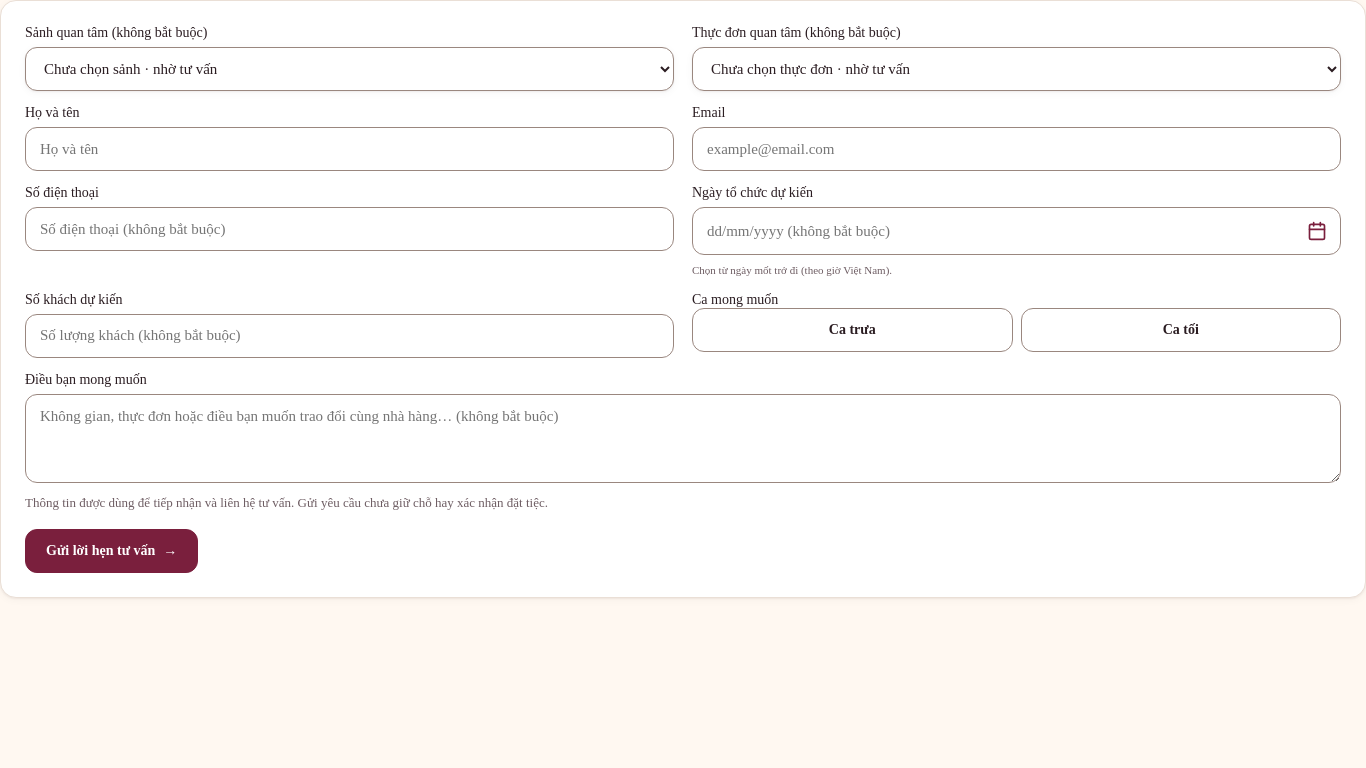
Scenario: public consultation submission › keeps a failed draft and reuses the intent id on retry
This screenshot has width=1366, height=768.
Step 1. Type "Lan & Minh" into the field labelled "Họ và tên" → [350, 149], box [25,127,674,171]
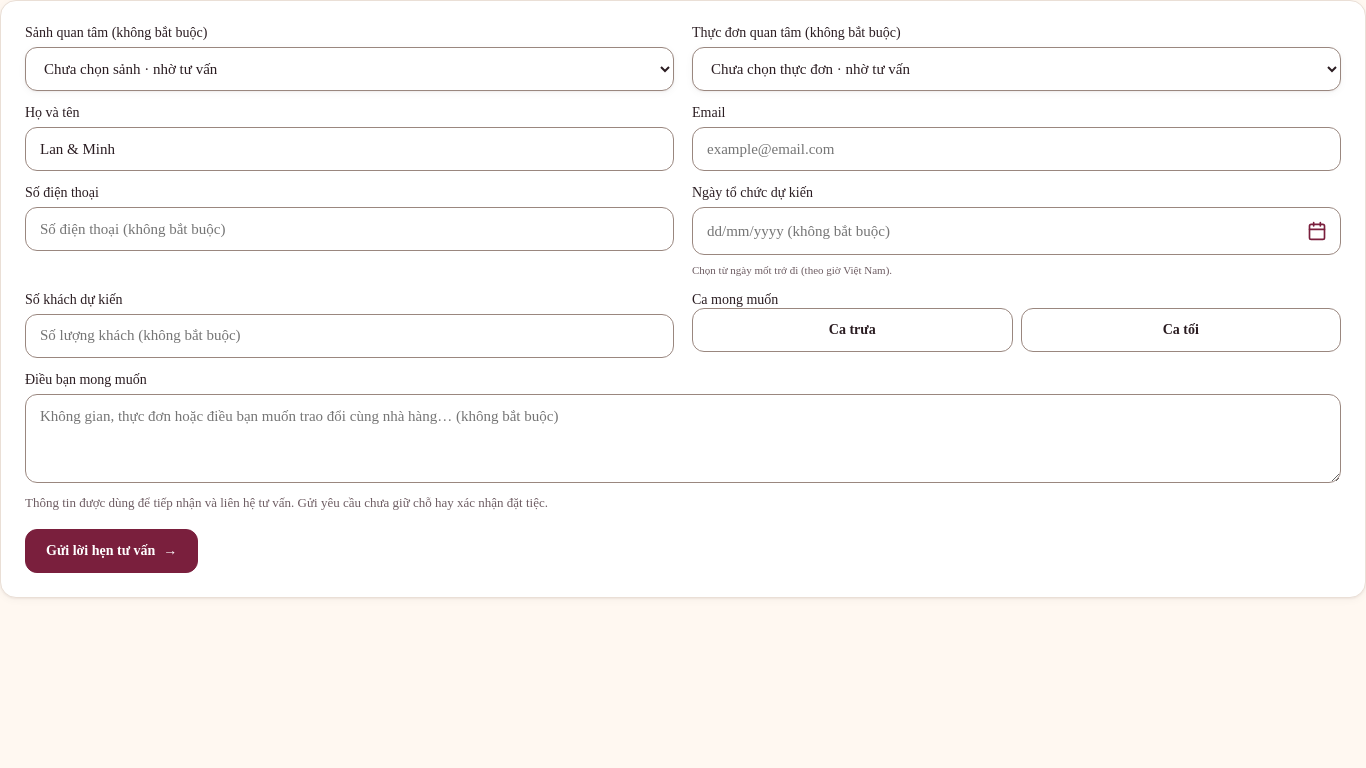
Step 2. Type "lan@example.com" into the field labelled "Email" → [1016, 149], box [692,127,1341,171]
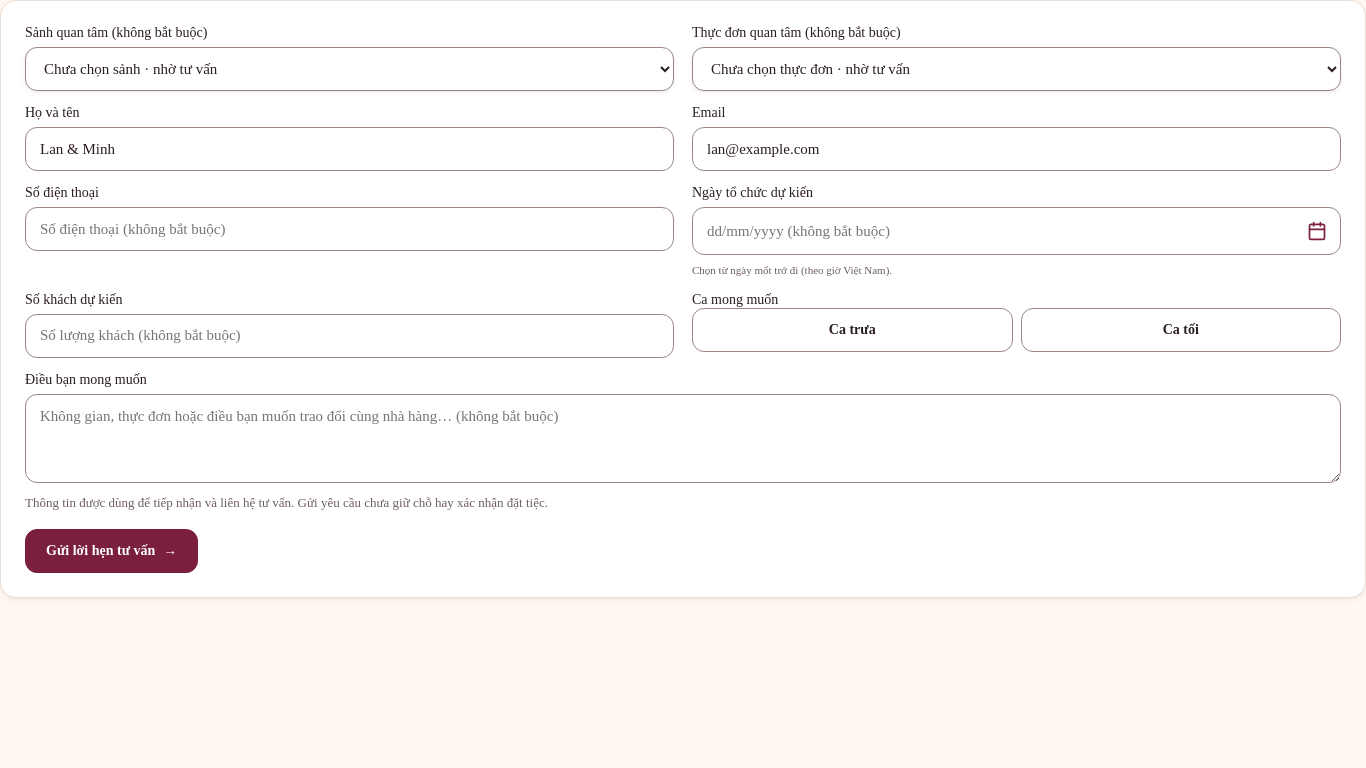
Step 3. Click the button "Gửi lời hẹn tư vấn →" → [112, 551], box [25,529,198,573]
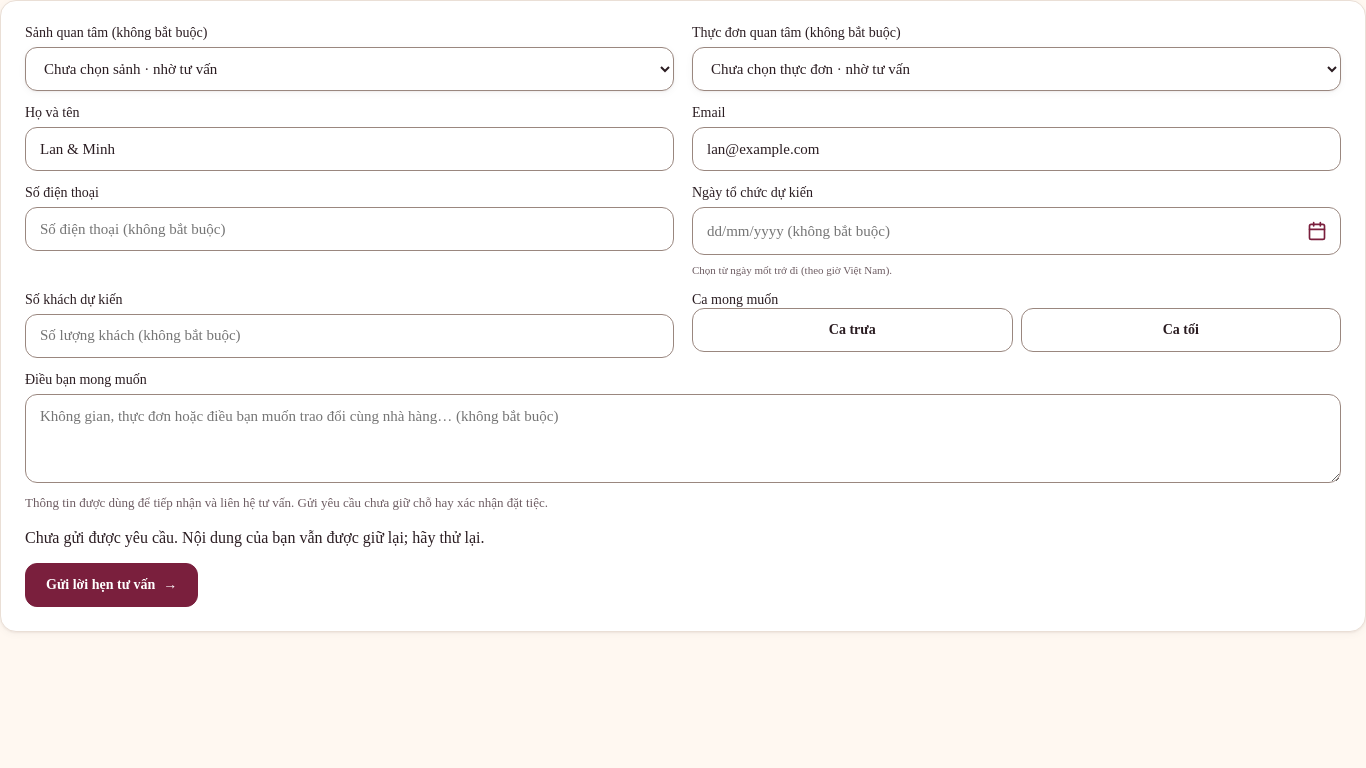
Expected: the message shows "Nội dung của bạn vẫn được giữ", [25,529,484,546]
Step 4. Click the button "Gửi lời hẹn tư vấn →" → [112, 585], box [25,563,198,607]
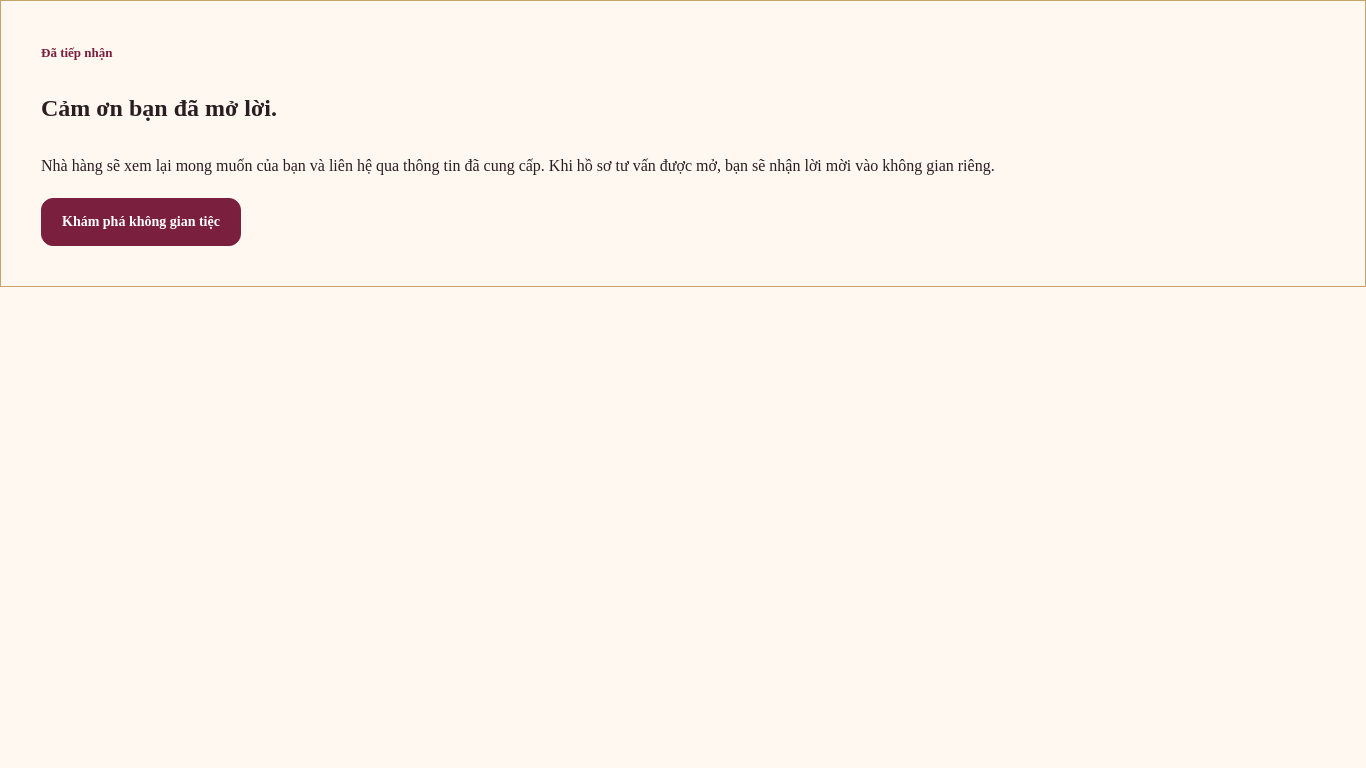
Expected: the heading "Cảm ơn bạn đã mở lời." is shown, [41,95,277,121]
